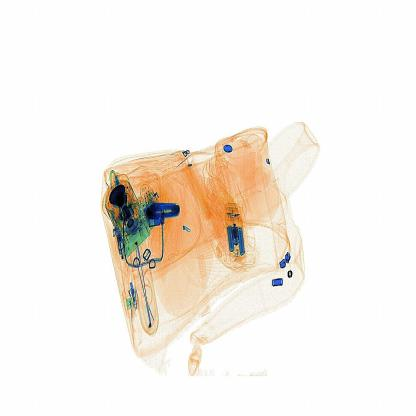scissors: (143, 200, 187, 221)
